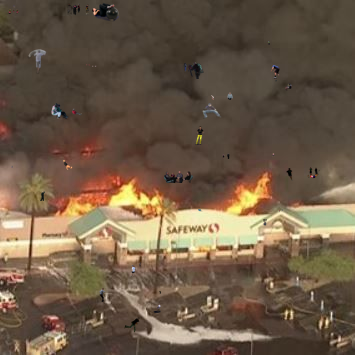Human: (92, 3, 119, 22), (27, 49, 47, 74), (51, 103, 82, 119), (286, 167, 320, 181), (186, 126, 205, 148), (67, 3, 89, 20), (183, 62, 204, 79), (164, 171, 193, 183), (202, 103, 222, 119), (124, 317, 140, 333), (130, 262, 142, 277), (270, 65, 280, 79), (63, 160, 73, 170), (99, 288, 105, 302), (153, 304, 161, 313), (285, 83, 294, 91), (8, 9, 19, 14), (221, 153, 230, 159), (40, 191, 45, 201), (227, 92, 233, 100), (86, 64, 97, 67), (263, 219, 267, 226), (198, 209, 203, 213), (9, 5, 15, 8), (279, 209, 283, 213), (211, 95, 214, 100), (272, 153, 275, 157), (268, 41, 270, 45), (159, 291, 161, 294), (11, 165, 13, 168), (275, 80, 277, 82)
